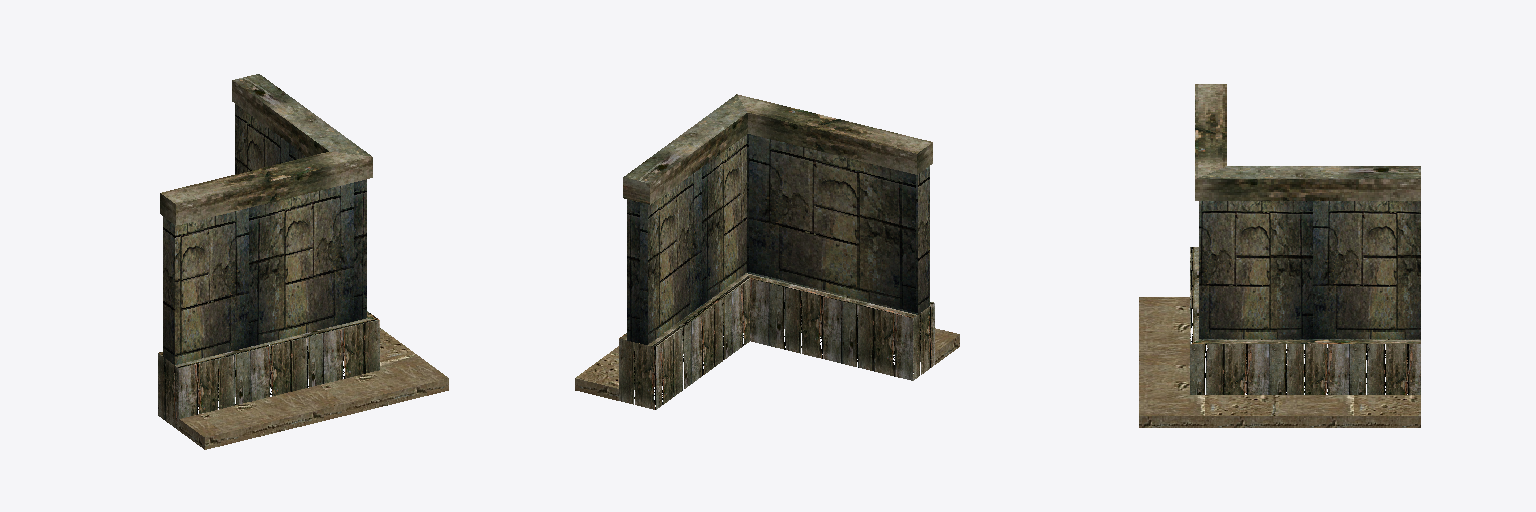
The picture shows the model from 3 angles: view 1: azimuth 30°, elevation 25°; view 2: azimuth 150°, elevation 25°; view 3: azimuth 270°, elevation 25°; orthographic projection.
Visible parts, largest first — view 1: Mesh_0, Mesh_1, Mesh_2; view 2: Mesh_0, Mesh_1, Mesh_2; view 3: Mesh_0, Mesh_1, Mesh_2.
Part boxes in pixels (x1,y1,x2,y2): Mesh_0: (163, 104, 366, 364); Mesh_1: (158, 74, 379, 430); Mesh_2: (179, 328, 448, 449); Mesh_0: (627, 134, 929, 344); Mesh_1: (619, 94, 934, 409); Mesh_2: (575, 328, 959, 400); Mesh_0: (1199, 201, 1420, 339); Mesh_1: (1190, 84, 1420, 394); Mesh_2: (1139, 297, 1420, 427).
Bounding box in the file's own units: 3.01 × 2.64 × 3.01.
Materials: 3 (3 with a texture image).